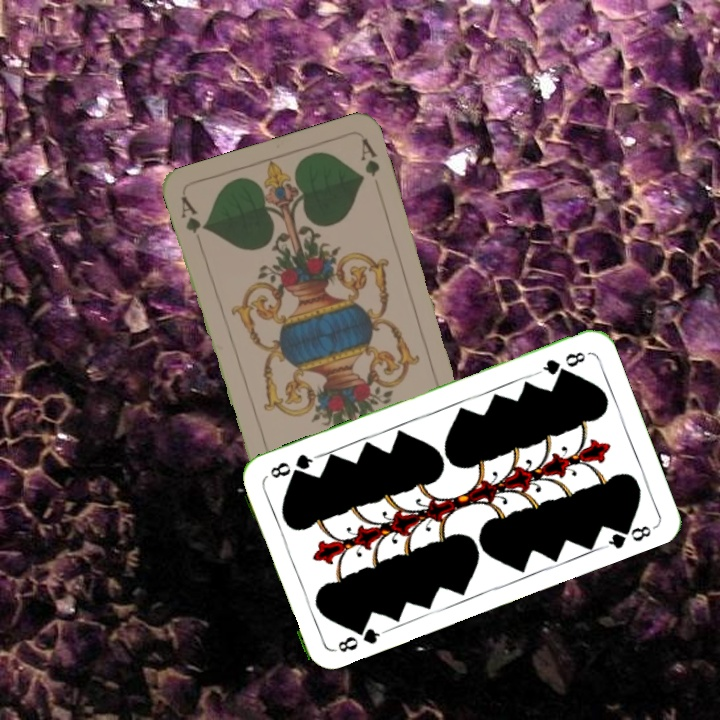G8: (333, 619, 386, 655), (534, 347, 589, 378)
GA: (176, 192, 209, 236)
